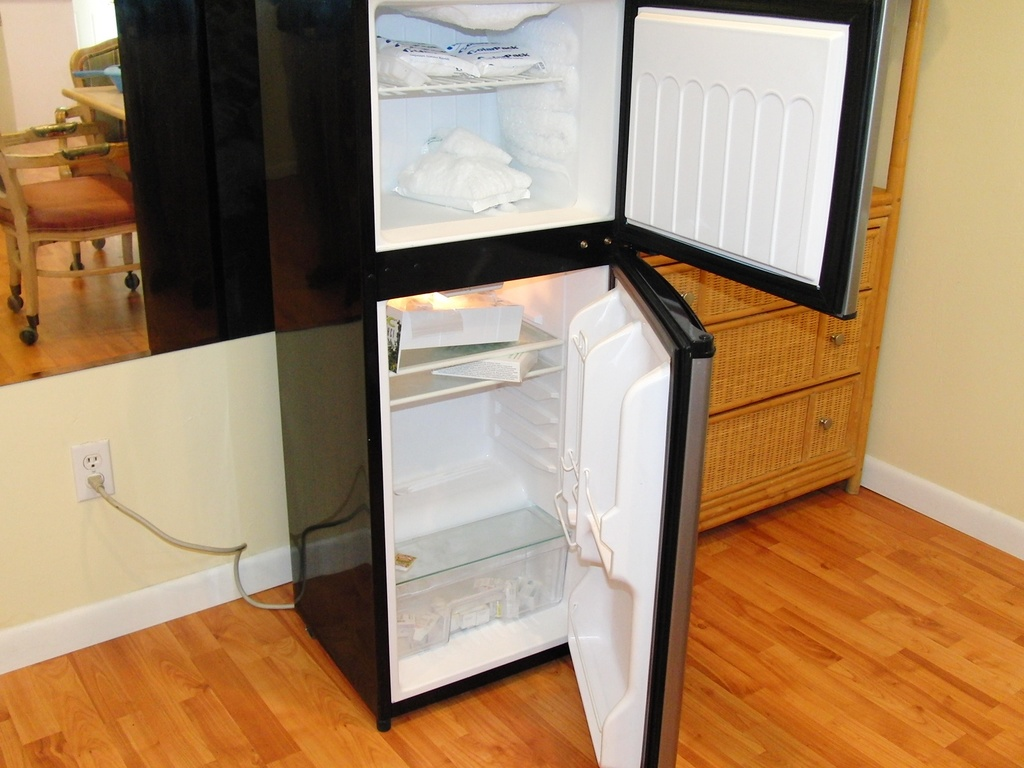cabinet door: (716, 404, 862, 461), (720, 327, 868, 377)
refrigerator door: (646, 19, 865, 283), (598, 292, 706, 768)
